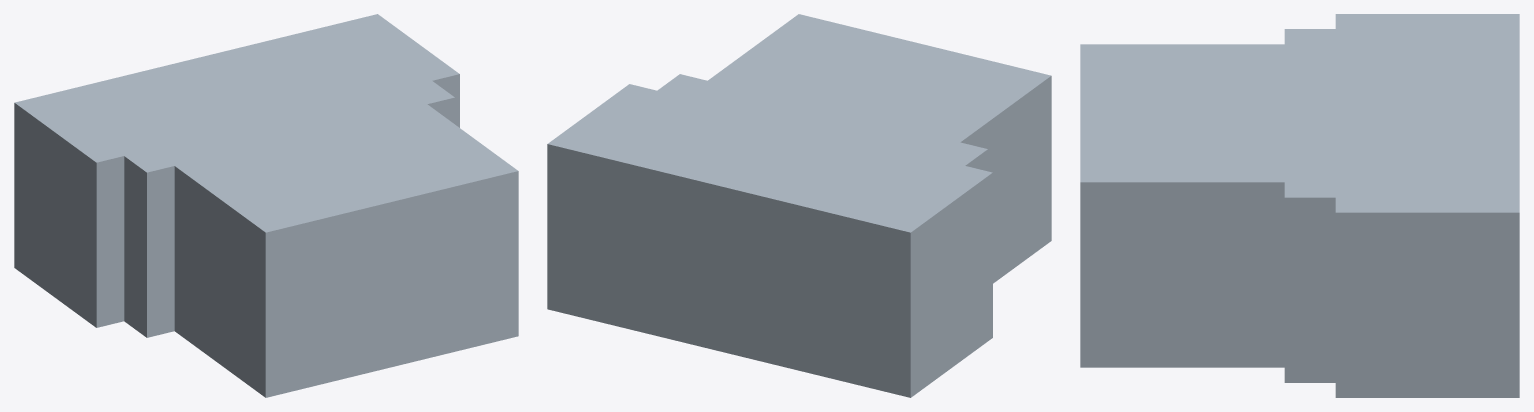
The model's file is fit-rect-transition.glb.
3 renders of one model, left to right at view 1: azimuth 30°, elevation 25°; view 2: azimuth 150°, elevation 25°; view 3: azimuth 270°, elevation 25°, orthographic. The views are drawn at different scales.
Parts seen in each view (by area): view 1: hvac-fitting-rect-transition-reducer; view 2: hvac-fitting-rect-transition-reducer; view 3: hvac-fitting-rect-transition-reducer.
Boxes of the visible parts, box(x1,y1,x2,y2) form: hvac-fitting-rect-transition-reducer: box(14, 14, 518, 397); hvac-fitting-rect-transition-reducer: box(547, 14, 1051, 397); hvac-fitting-rect-transition-reducer: box(1080, 14, 1519, 397).
Size of the model in its own units: 0.46 by 0.2 by 0.43.
